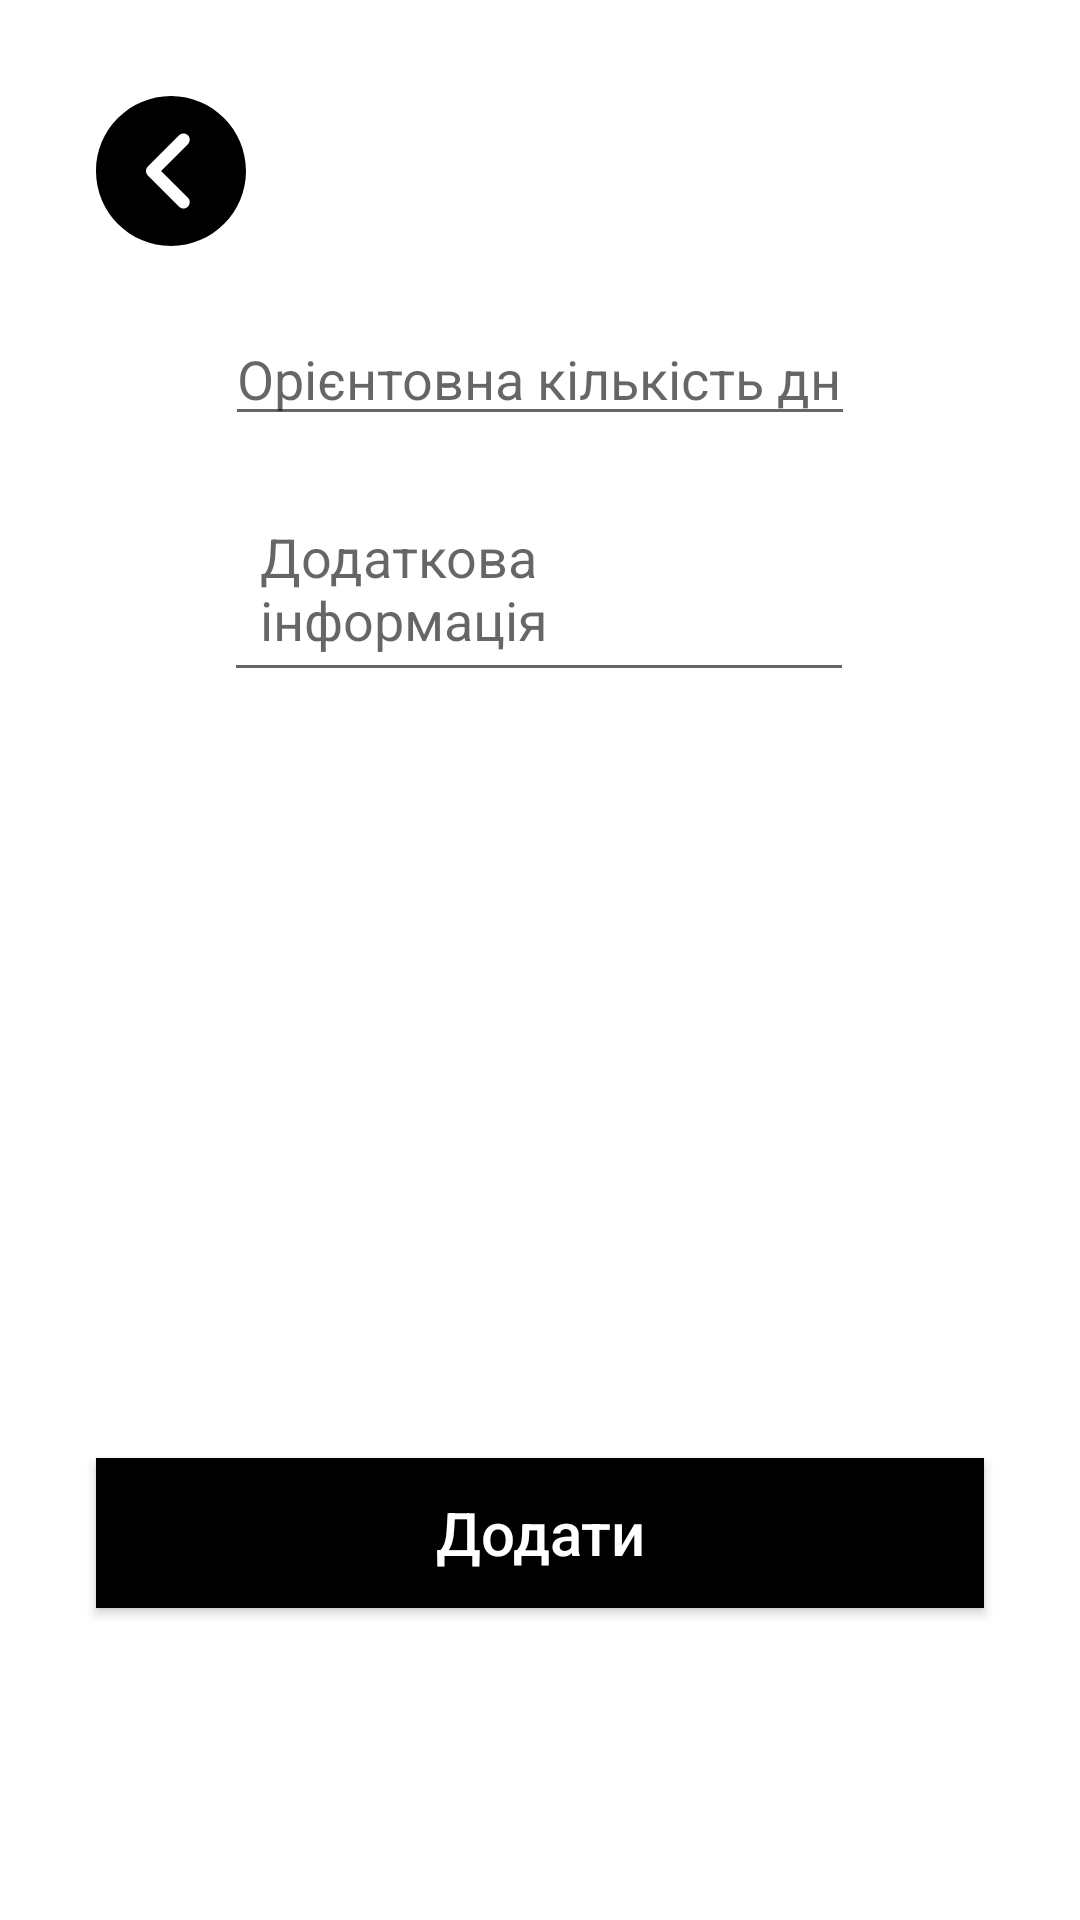

Named icons in this screenshot (1080px×1920px) and their centers, [x,y]:
left arrow: [171,171]
